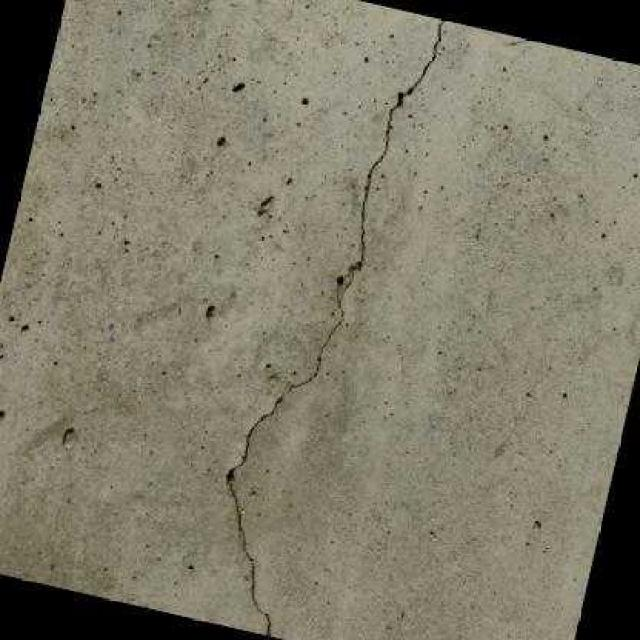D00: (223, 19, 447, 637)
